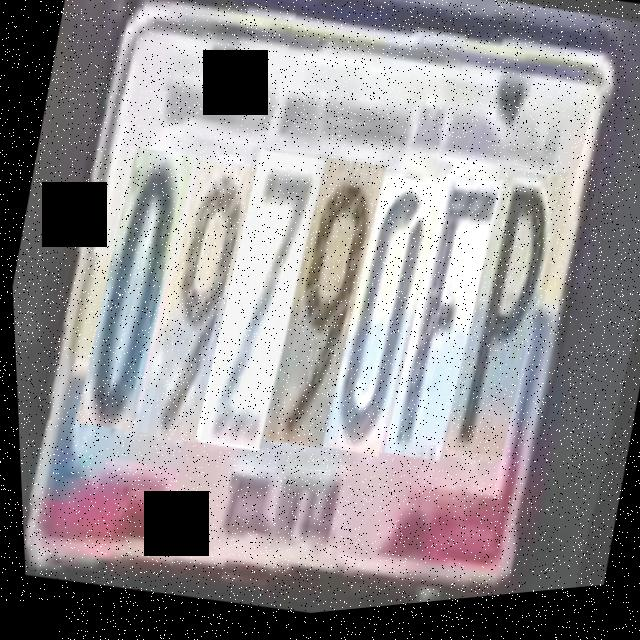0: (313, 173, 450, 466)
9: (252, 154, 396, 458), (128, 154, 270, 453)
F: (374, 171, 512, 471)
O: (66, 143, 205, 440)
P: (433, 169, 575, 475)
Z: (185, 145, 335, 460)
